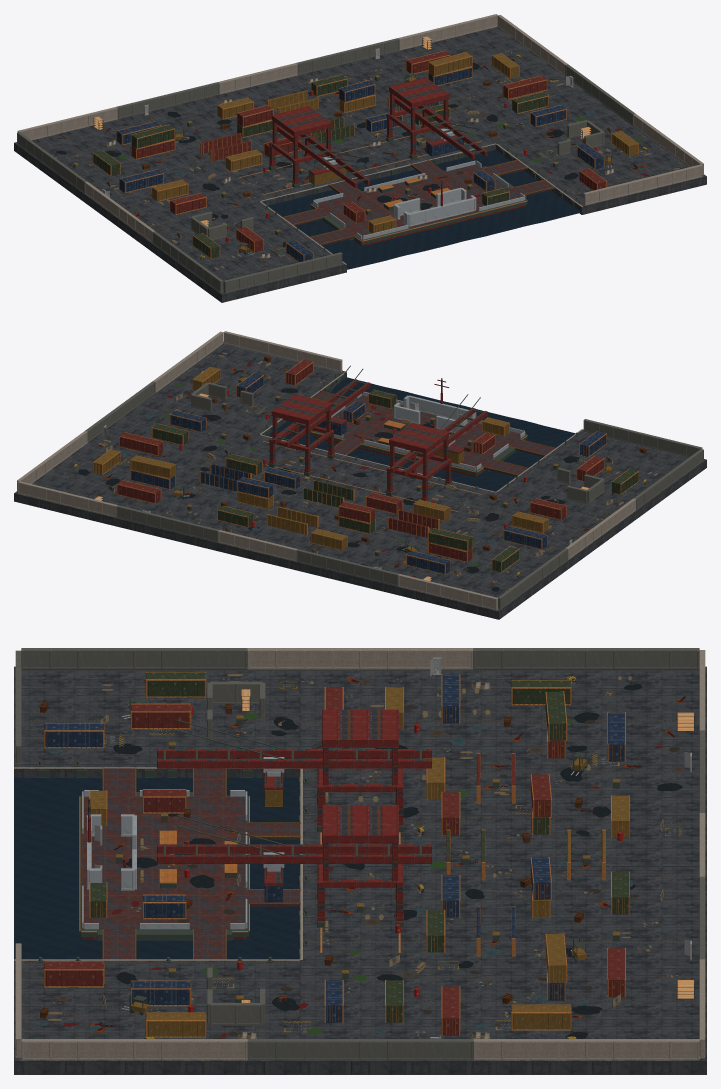
The model's file is Map8_Gece_Konteyner_Limani_5v5v5v5_v3.gltf.
The picture shows the model from 3 angles, top to bottom: view 1: azimuth 30°, elevation 25°; view 2: azimuth 150°, elevation 25°; view 3: azimuth 270°, elevation 25°; orthographic projection. The views are drawn at different scales.
Visible parts, largest first — view 1: Quay_Deck_North, Harbor_Water_Basin, Quay_Deck_EastArm, Quay_Deck_WestArm, CargoShip_Deck, GantryCrane_01_Canopy, GantryCrane_02_Canopy, Wall_PortPerimeter_12, Wall_PortPerimeter_13, CargoShip_Hull, Wall_PortPerimeter_02, Wall_PortPerimeter_04 (+37 smaller); view 2: Quay_Deck_North, Quay_Deck_WestArm, Quay_Deck_EastArm, Harbor_Water_Basin, GantryCrane_02_Canopy, GantryCrane_01_Canopy, CargoShip_Deck, Wall_PortPerimeter_13, Wall_PortPerimeter_12, Wall_PortPerimeter_04, Wall_PortPerimeter_02, Wall_PortPerimeter_01 (+42 smaller); view 3: Quay_Deck_North, Harbor_Water_Basin, Quay_Deck_WestArm, Quay_Deck_EastArm, CargoShip_Deck, GantryCrane_01_Canopy, GantryCrane_02_Canopy, Wall_PortPerimeter_06, Wall_PortPerimeter_08, Wall_PortPerimeter_09, Wall_PortPerimeter_11, Wall_PortPerimeter_10 (+40 smaller).
Boxes of the visible parts, <box> form: Quay_Deck_North: <box>14,27,616,239</box>; Harbor_Water_Basin: <box>268,150,581,269</box>; Quay_Deck_EastArm: <box>496,114,706,214</box>; Quay_Deck_WestArm: <box>136,201,346,302</box>; CargoShip_Deck: <box>312,164,525,239</box>; GantryCrane_01_Canopy: <box>269,106,370,187</box>; GantryCrane_02_Canopy: <box>386,77,487,159</box>; Wall_PortPerimeter_12: <box>223,252,342,293</box>; Wall_PortPerimeter_13: <box>583,164,702,205</box>; CargoShip_Hull: <box>310,166,527,245</box>; Wall_PortPerimeter_02: <box>116,82,219,119</box>; Wall_PortPerimeter_04: <box>296,38,399,75</box>; Quay_Deck_North: <box>14,405,620,619</box>; Quay_Deck_WestArm: <box>496,429,706,530</box>; Quay_Deck_EastArm: <box>140,342,346,435</box>; Harbor_Water_Basin: <box>268,377,575,491</box>; GantryCrane_02_Canopy: <box>269,365,370,452</box>; GantryCrane_01_Canopy: <box>386,394,487,480</box>; CargoShip_Deck: <box>312,395,525,470</box>; Wall_PortPerimeter_13: <box>223,331,342,372</box>; Wall_PortPerimeter_12: <box>583,419,702,457</box>; Wall_PortPerimeter_04: <box>116,505,218,542</box>; Wall_PortPerimeter_02: <box>296,549,398,586</box>; Wall_PortPerimeter_01: <box>398,574,498,610</box>; Quay_Deck_North: <box>298,666,706,1074</box>; Harbor_Water_Basin: <box>14,777,300,959</box>; Quay_Deck_WestArm: <box>14,666,300,778</box>; Quay_Deck_EastArm: <box>14,959,300,1074</box>; CargoShip_Deck: <box>81,796,247,929</box>; GantryCrane_01_Canopy: <box>157,709,431,792</box>; GantryCrane_02_Canopy: <box>157,805,431,888</box>; Wall_PortPerimeter_06: <box>473,648,699,669</box>; Wall_PortPerimeter_08: <box>21,648,247,669</box>; Wall_PortPerimeter_09: <box>473,1039,699,1060</box>; Wall_PortPerimeter_11: <box>21,1039,247,1060</box>; Wall_PortPerimeter_10: <box>247,1039,473,1060</box>.
Size of the model in its own units: 124 by 15.4 by 92.
Materials: 31 (31 with a texture image).
